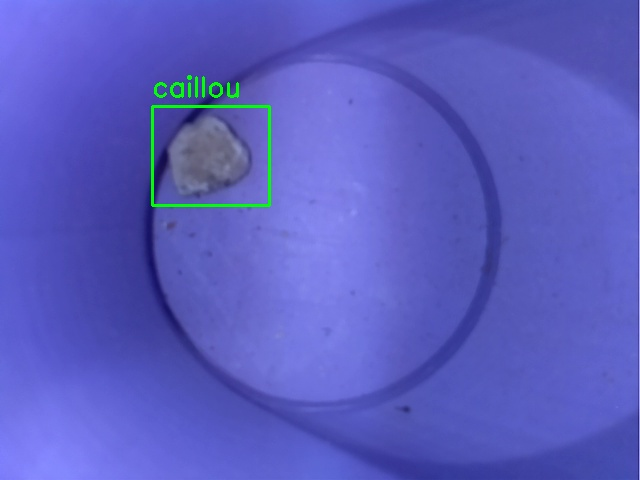caillou: (152, 106, 269, 205)
